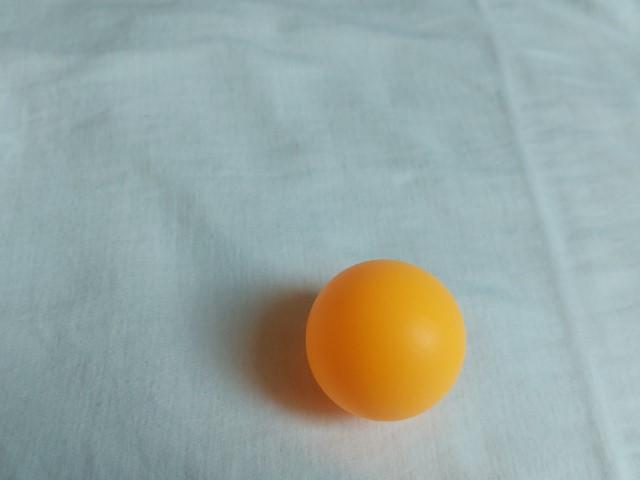oball: (292, 252, 478, 431)
